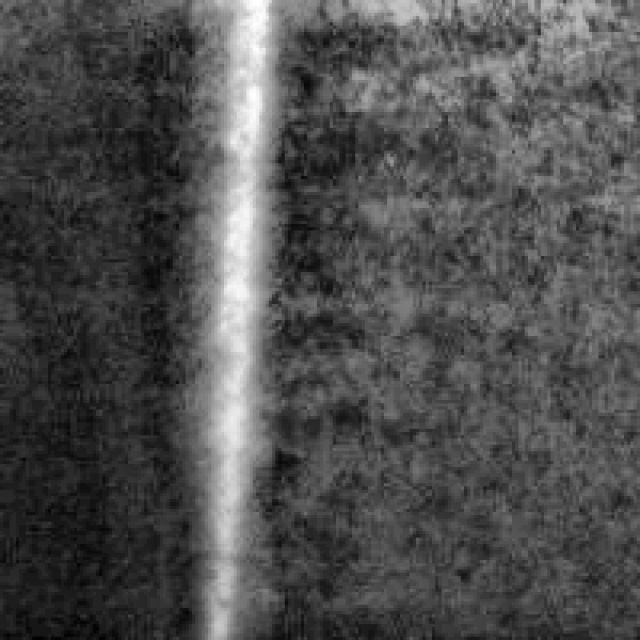Inclusion: (195, 0, 275, 627)
